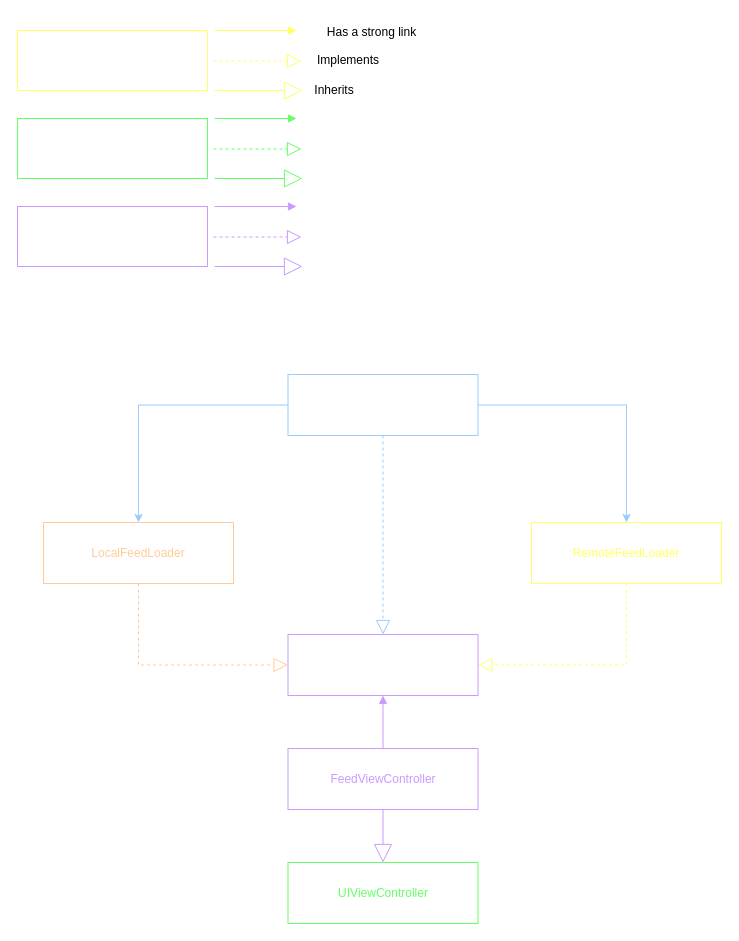
Image size: 739x941. Some labels were removed from this diagram. The box of each missing label's shape, as (x1, y1, x2, y2) in pixels:
<FeedLoader>: (287, 634, 478, 696)
FallbackFeedLoader: (287, 374, 478, 436)
